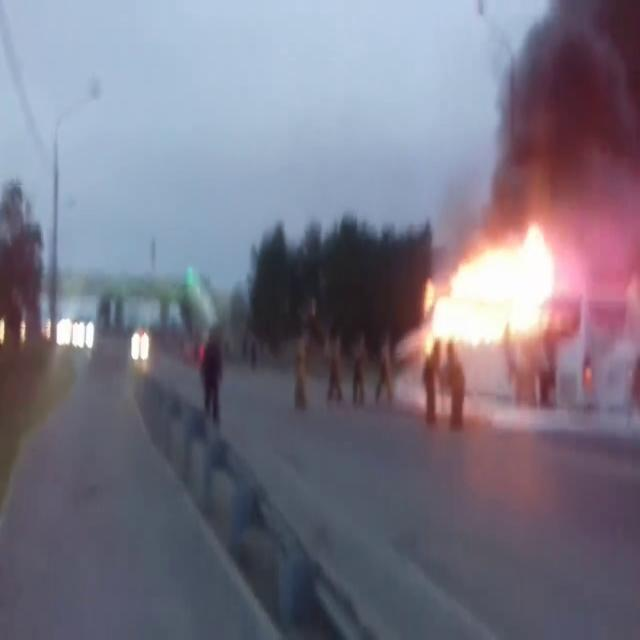Fire: (420, 220, 568, 360)
Smoke: (479, 0, 640, 261)
